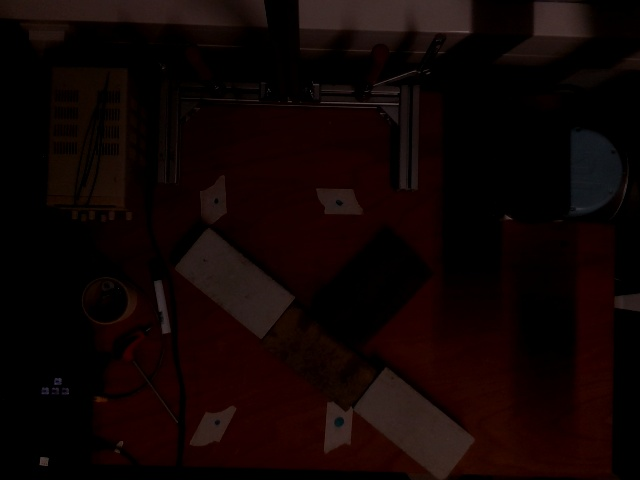brick: (319, 236, 433, 352), (175, 228, 290, 335), (262, 305, 377, 412), (354, 370, 469, 477)
